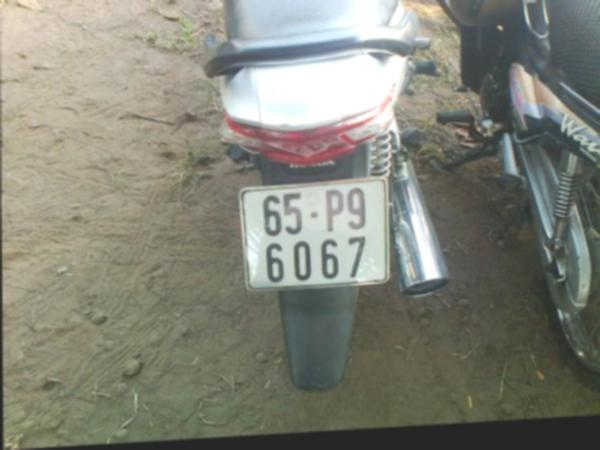License_Plate: (242, 181, 388, 292)
